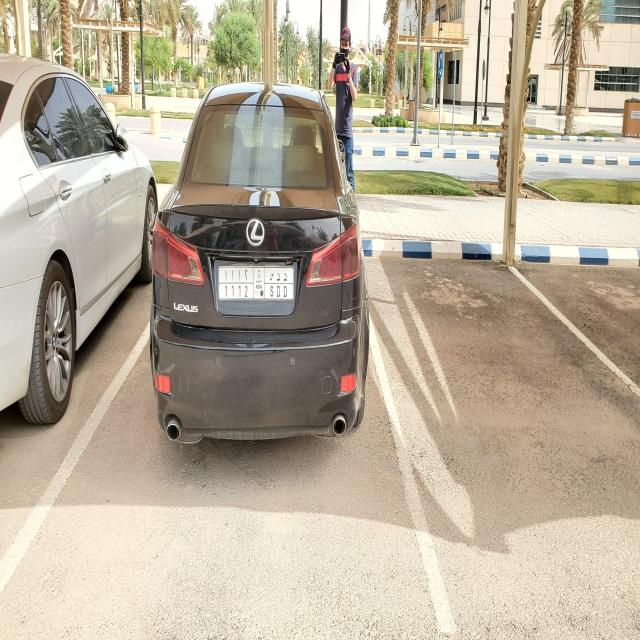license_plate: (216, 263, 295, 304)
